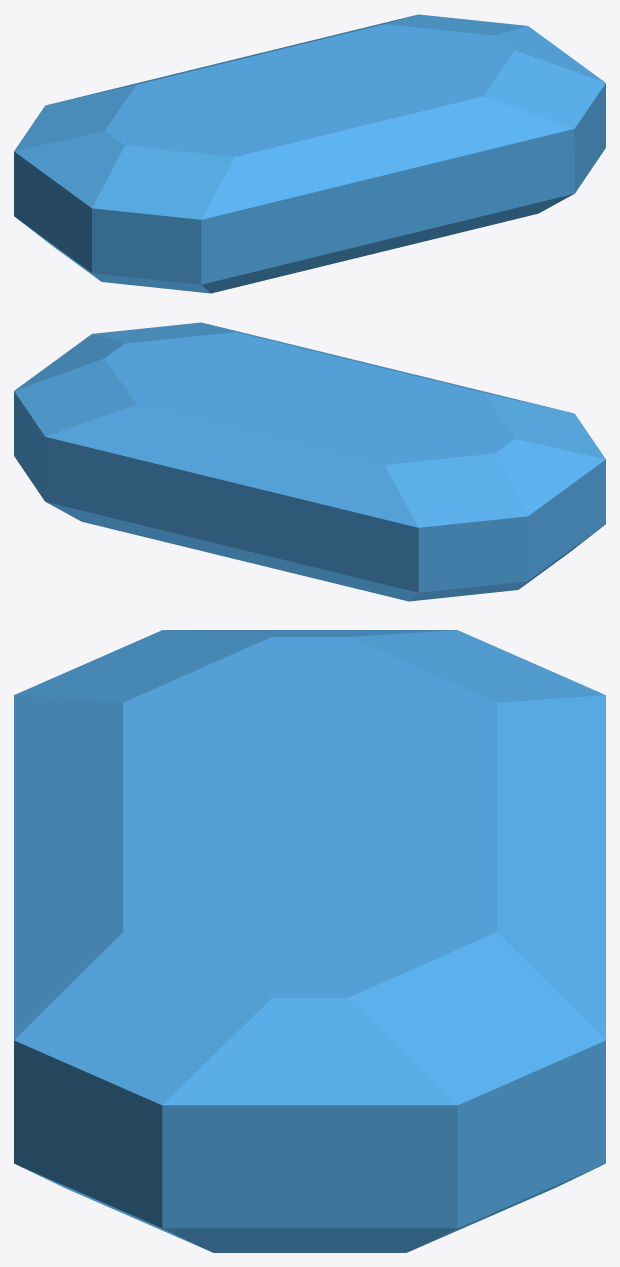
The model's file is Jem_17.fbx.
3 views of the same model, one above another, from view 1: azimuth 30°, elevation 25°; view 2: azimuth 150°, elevation 25°; view 3: azimuth 270°, elevation 25° (orthographic). The views are drawn at different scales.
Parts seen in each view (by area): view 1: Jem_17; view 2: Jem_17; view 3: Jem_17.
Part boxes in pixels (left/top/right/bottom): Jem_17: left=14, top=14, right=605, bottom=293; Jem_17: left=14, top=322, right=605, bottom=601; Jem_17: left=14, top=630, right=605, bottom=1252.
Size of the model in its own units: 84.81 by 18.23 by 44.64.
